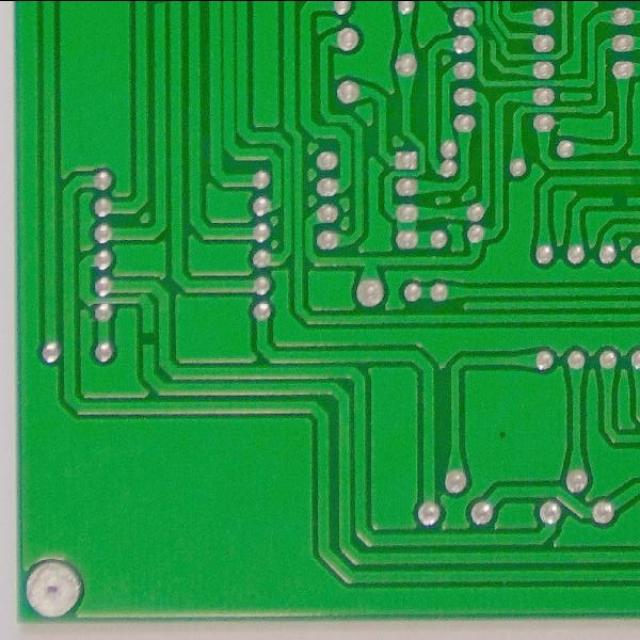Open_Circuit: (135, 323, 160, 354), (603, 191, 638, 210), (146, 0, 173, 15)
